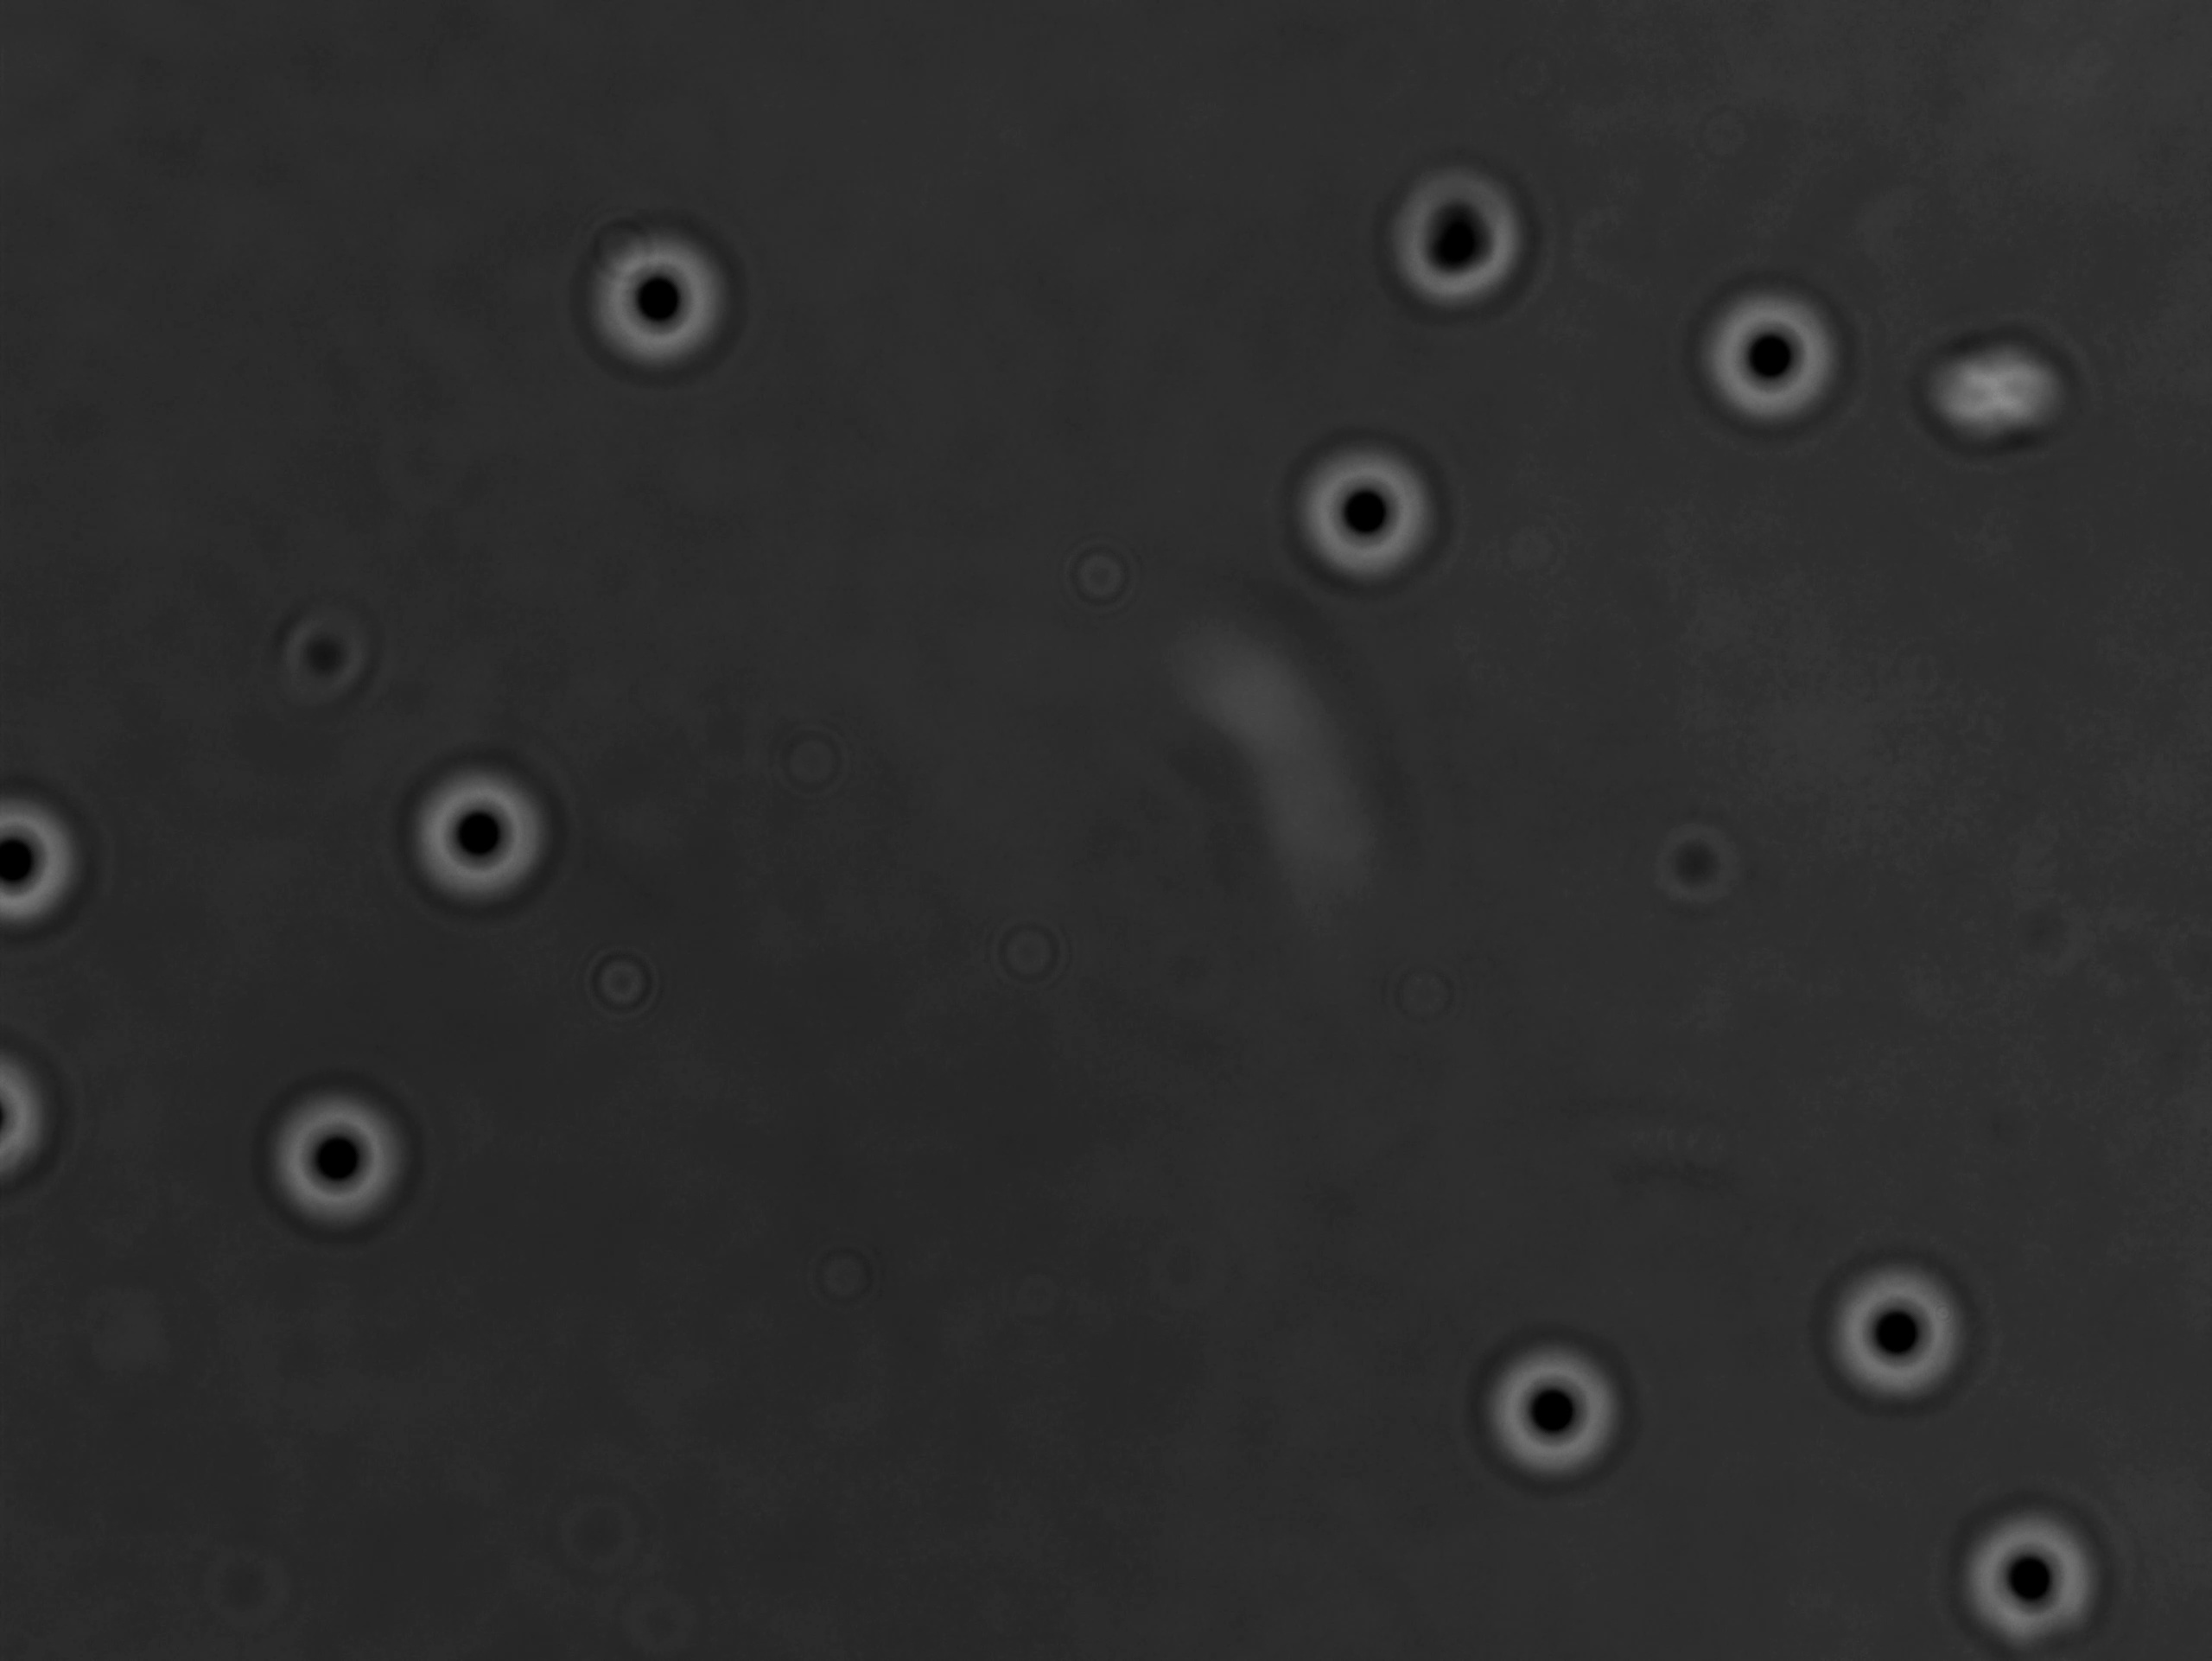depth:-40: (1460, 1317, 1661, 1506), (1270, 410, 1457, 605), (1797, 1239, 1985, 1429), (1382, 152, 1567, 335), (398, 740, 579, 923), (255, 1063, 438, 1239), (1692, 270, 1867, 443), (569, 208, 743, 379), (1943, 1488, 2125, 1652)
